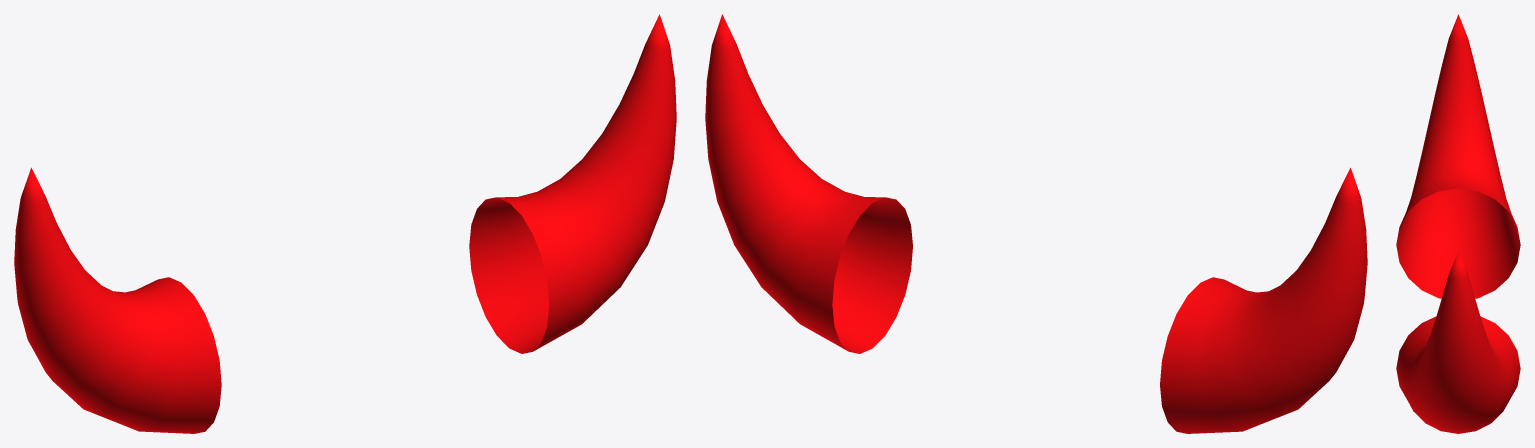
File: HAT_Demon_Horn.fbx
The picture shows the model from 3 angles, left to right: view 1: azimuth 30°, elevation 25°; view 2: azimuth 150°, elevation 25°; view 3: azimuth 270°, elevation 25°; orthographic projection. The views are drawn at different scales.
Visible parts, largest first — view 1: Demon_horn; view 2: Demon_horn; view 3: Demon_horn.
Boxes of the visible parts, left/top/right/bottom form: Demon_horn: left=14, top=14, right=676, bottom=433; Demon_horn: left=705, top=14, right=1367, bottom=433; Demon_horn: left=1396, top=14, right=1520, bottom=433.
Size of the model in its own units: 126 by 54.62 by 26.72.
